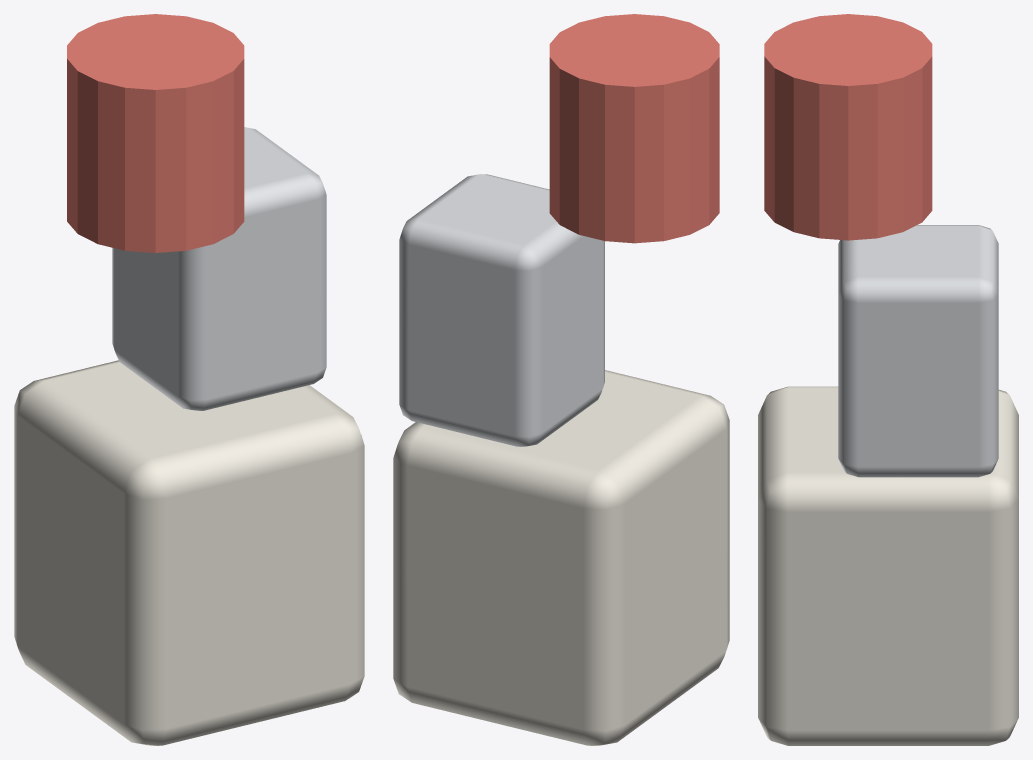
The picture shows the model from 3 angles, left to right: view 1: azimuth 30°, elevation 25°; view 2: azimuth 150°, elevation 25°; view 3: azimuth 270°, elevation 25°; orthographic projection. The views are drawn at different scales.
Parts seen in each view (by area): view 1: abstract-sculpture-form; view 2: abstract-sculpture-form; view 3: abstract-sculpture-form.
Part boxes in pixels (box(x1,y1,x2,y2)): abstract-sculpture-form: box(14, 14, 364, 745); abstract-sculpture-form: box(393, 14, 729, 745); abstract-sculpture-form: box(758, 14, 1018, 745).
Size of the model in its own units: 0.275 by 0.69 by 0.26.
